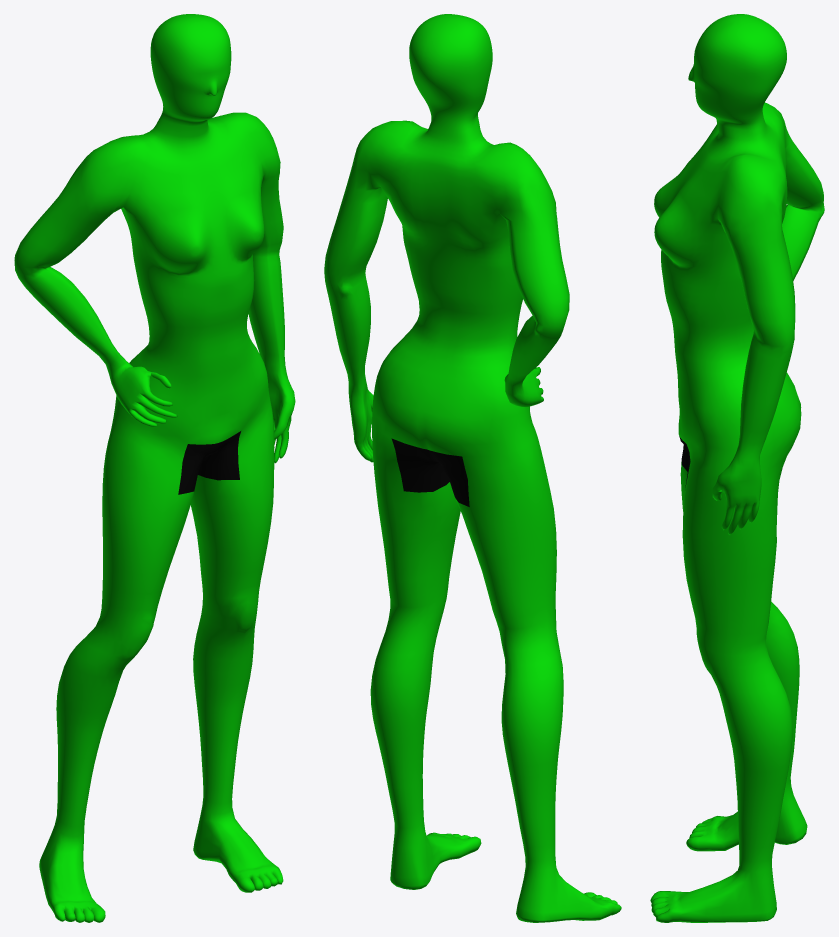
The model's file is MannequinInPose.fbx.
The picture shows the model from 3 angles, left to right: view 1: azimuth 30°, elevation 25°; view 2: azimuth 150°, elevation 25°; view 3: azimuth 270°, elevation 25°; orthographic projection. The views are drawn at different scales.
Visible parts, largest first — view 1: mannequin_high1; view 2: mannequin_high1; view 3: mannequin_high1.
Part boxes in pixels (left/top/right/bottom): mannequin_high1: left=14, top=14, right=295, bottom=922; mannequin_high1: left=324, top=14, right=621, bottom=922; mannequin_high1: left=650, top=14, right=824, bottom=922.
Size of the model in its own units: 2.85 by 9.14 by 1.63.
